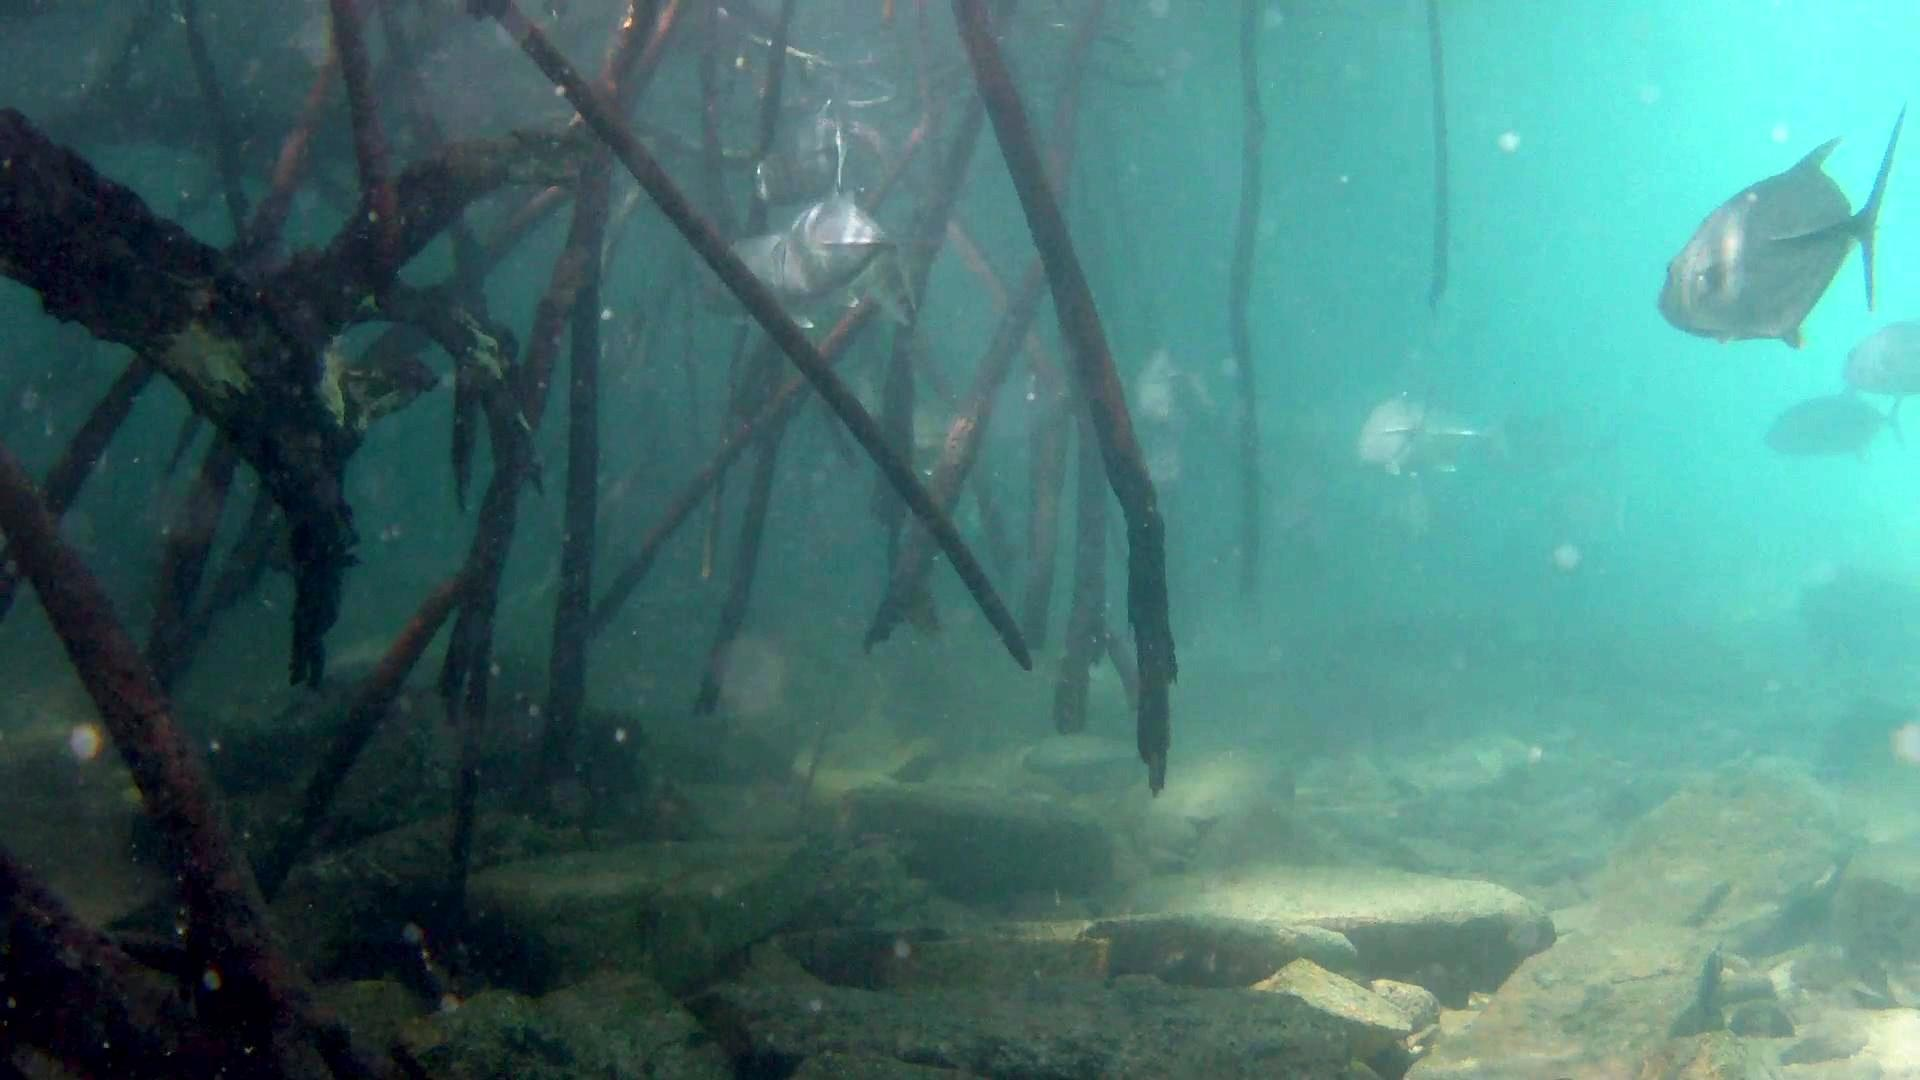caranx: (1643, 106, 1920, 367), (764, 178, 948, 325)
